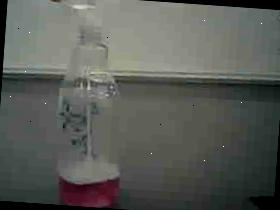hazard: (25, 0, 149, 210)
